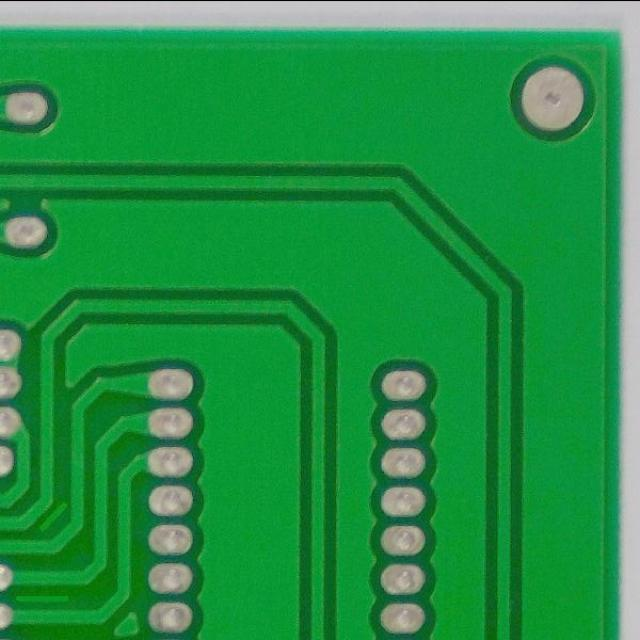spurious_copper: (32, 495, 77, 538), (8, 584, 72, 614)
